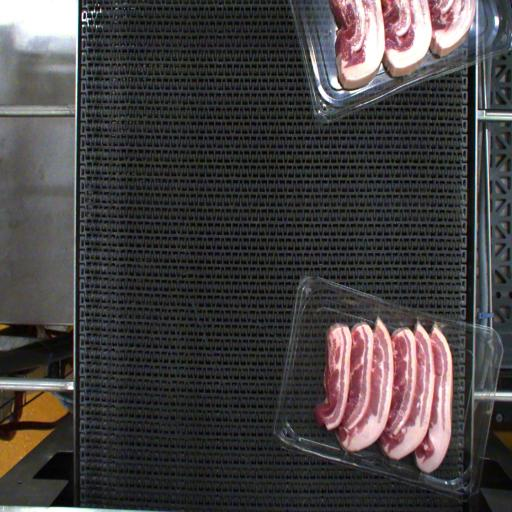packaging-error: (433, 317, 447, 331)
